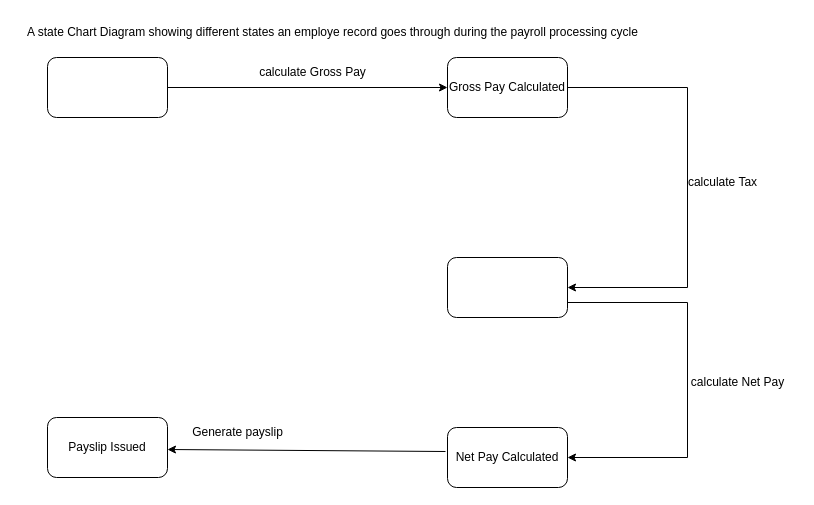
Image size: 814x505. Some labels were removed from this diagram. Here are the shapes that lost their labels. From the top down, the centre of each, then its label:
the point at 107,87: Created
the point at 507,287: Tax Withheld
